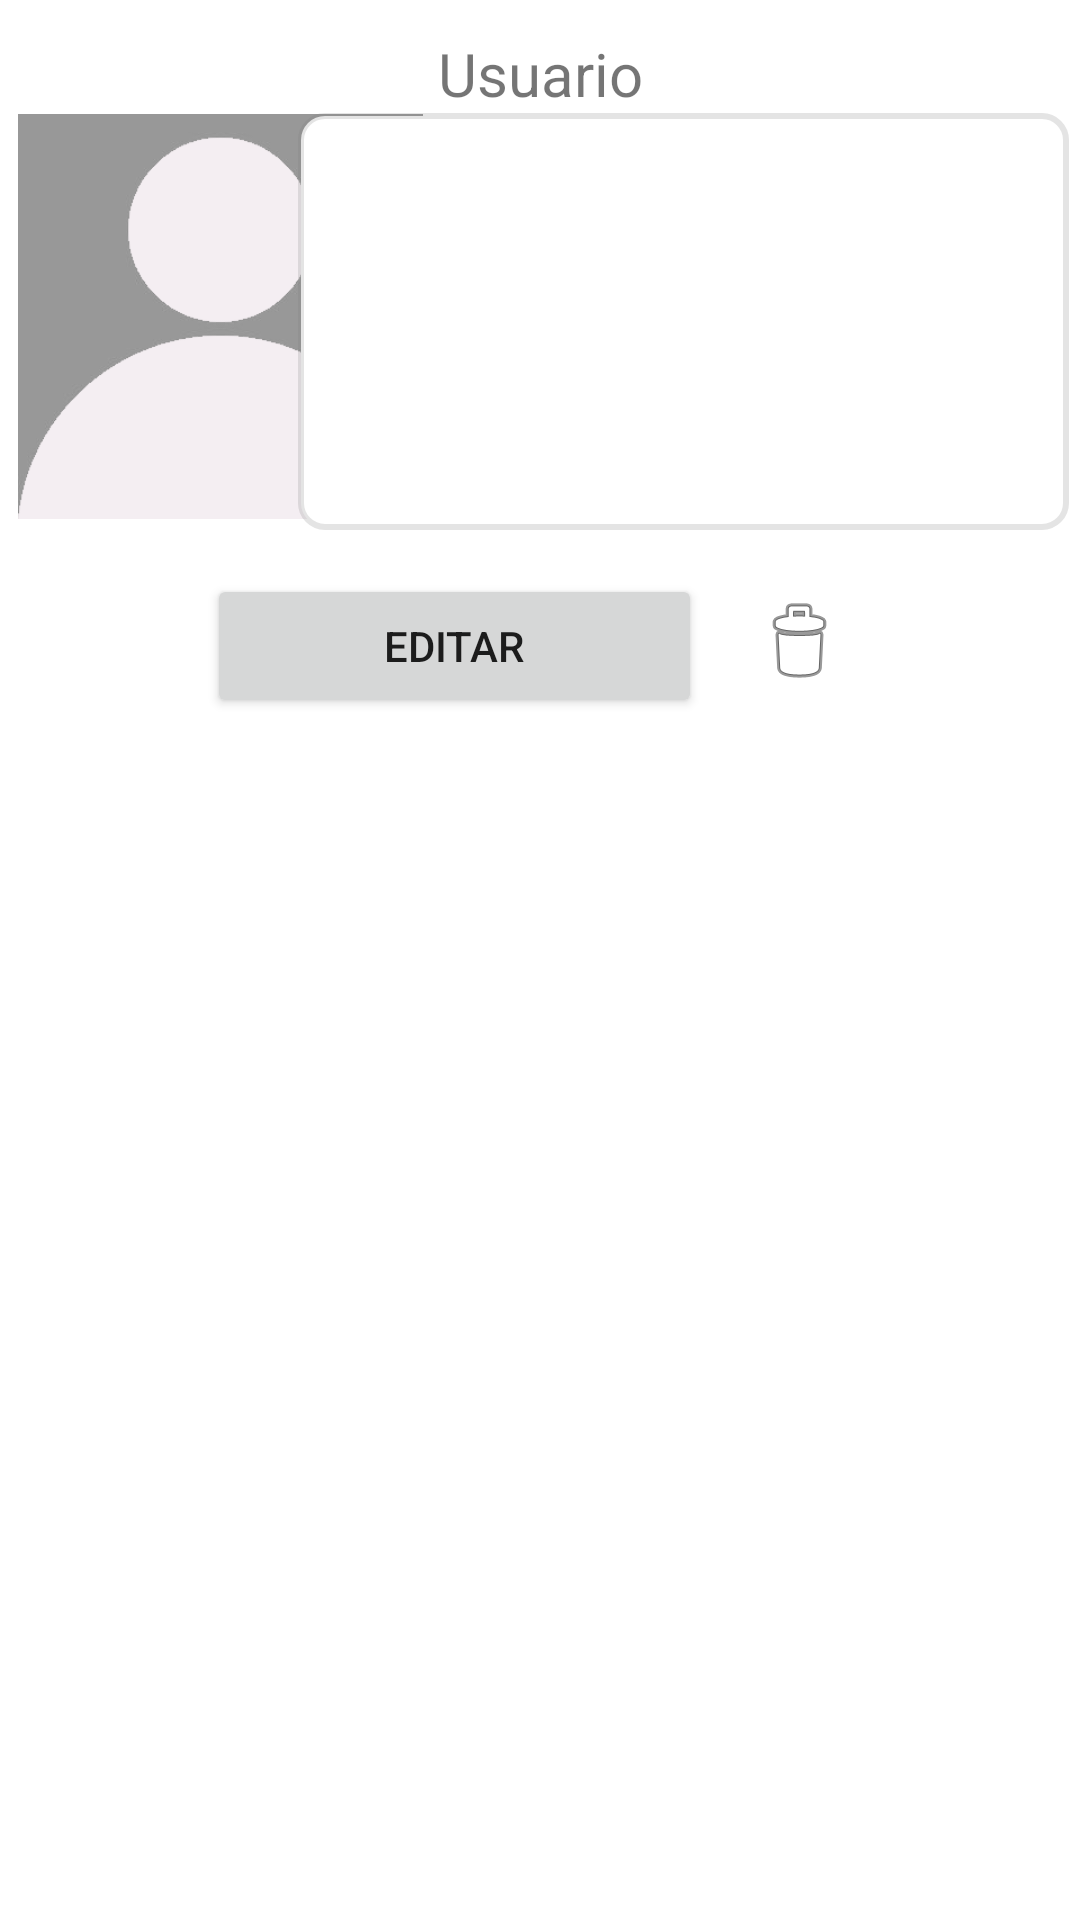

Named icons in this screenshot (1080 × 1920) and their centers, [x,y]:
delete: [799,640]
